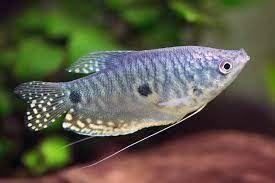Gourami: (14, 46, 251, 171)
